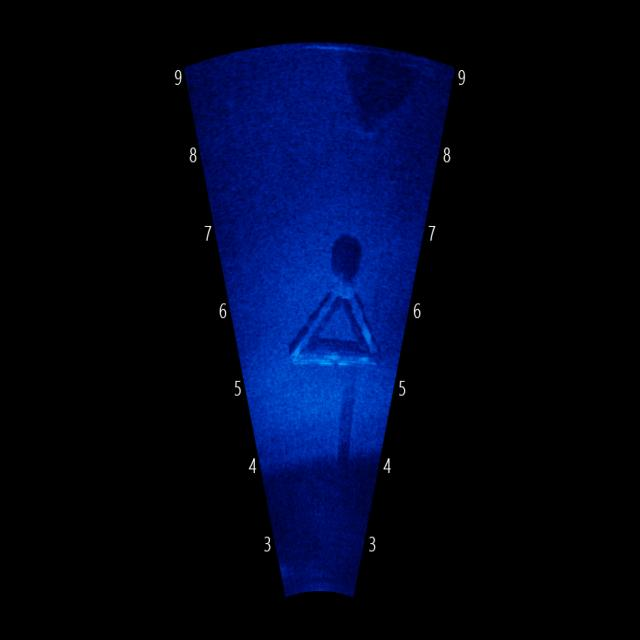triangle: (283, 257, 402, 369)
